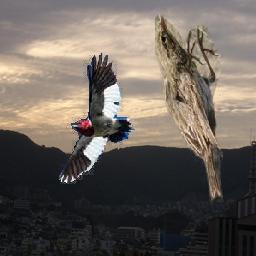Sparrow: (155, 14, 223, 203)
Woodpecker: (60, 52, 137, 184)
